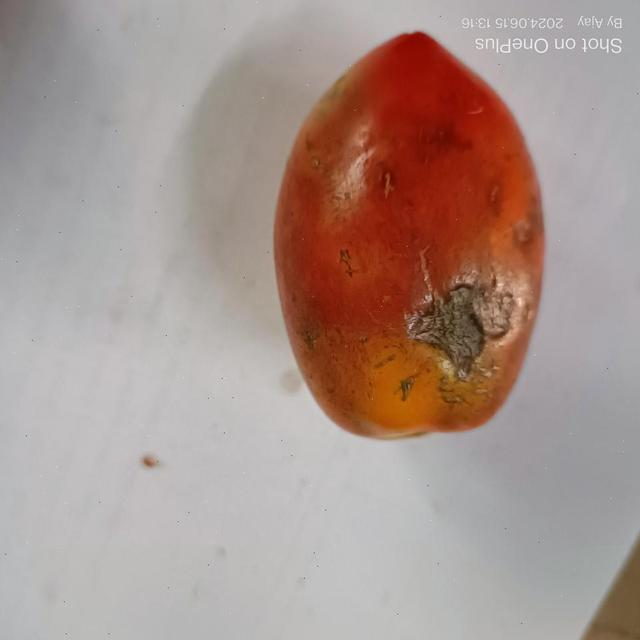Bacterial Spot Fruit: (270, 188, 347, 254)
